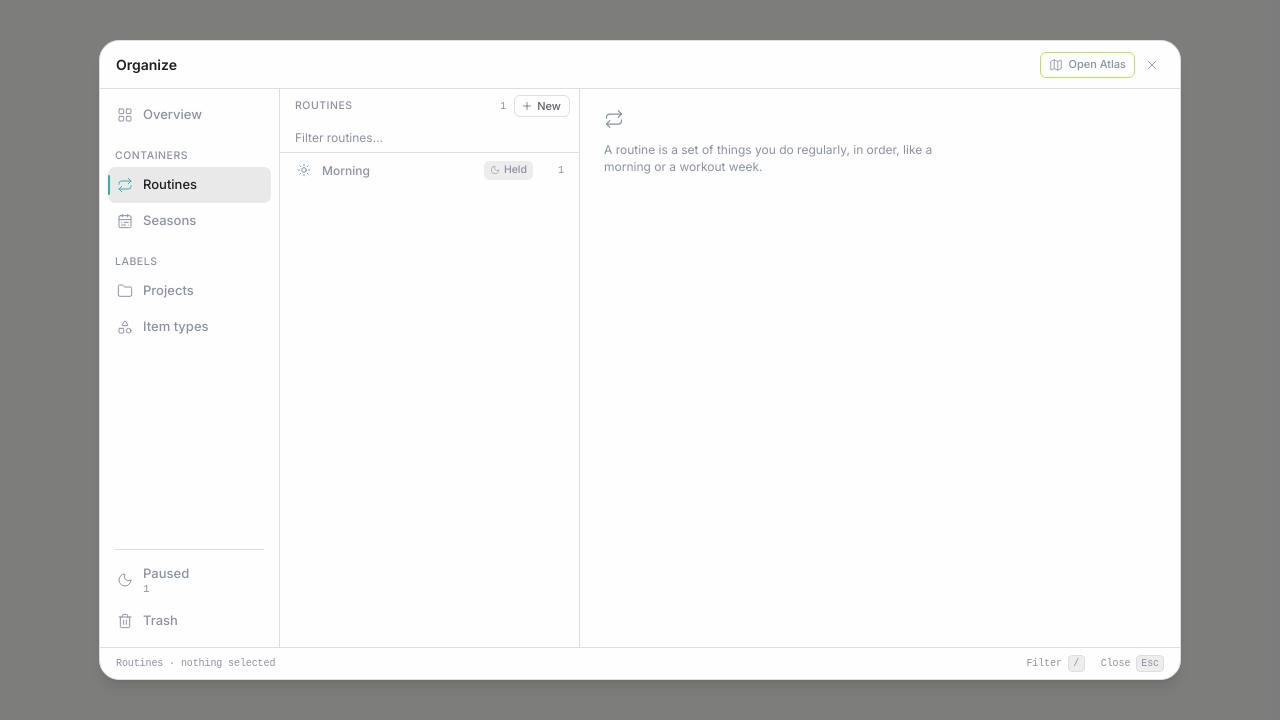
Test: a routine a season is holding off › promises no date when the blocking season has none to give
Click the button with test id "routine-row": (346, 170) [288,153,571,187]
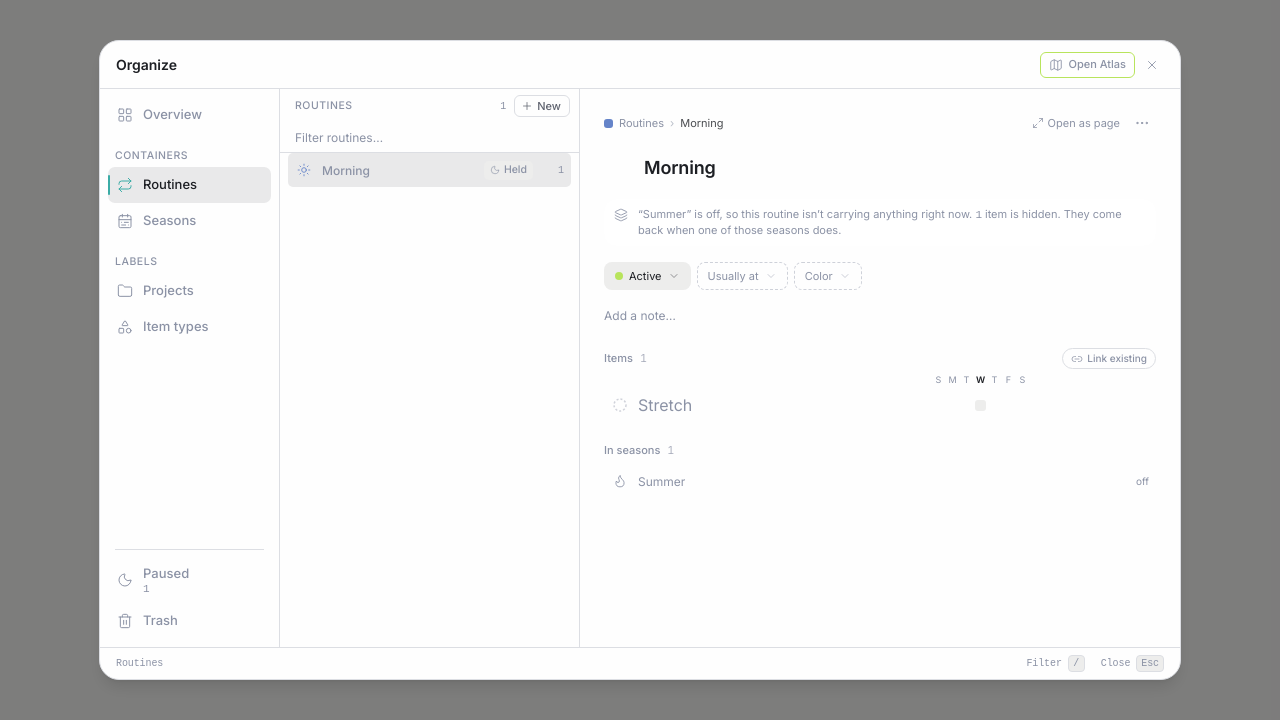
Result: the element with test id "routine-held-note" shows "when one of those seasons does" at [638,207,1122,237]
